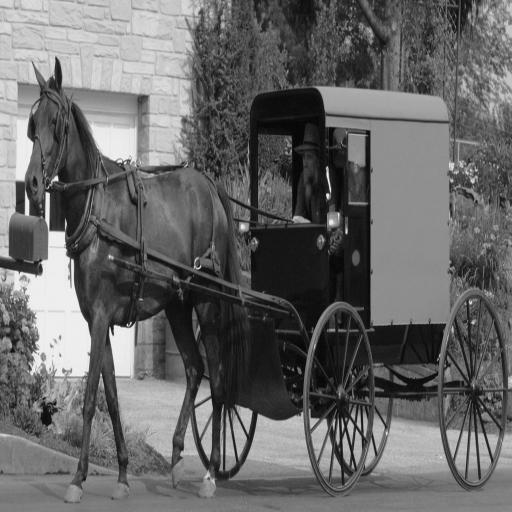horse: (22, 50, 254, 504)
